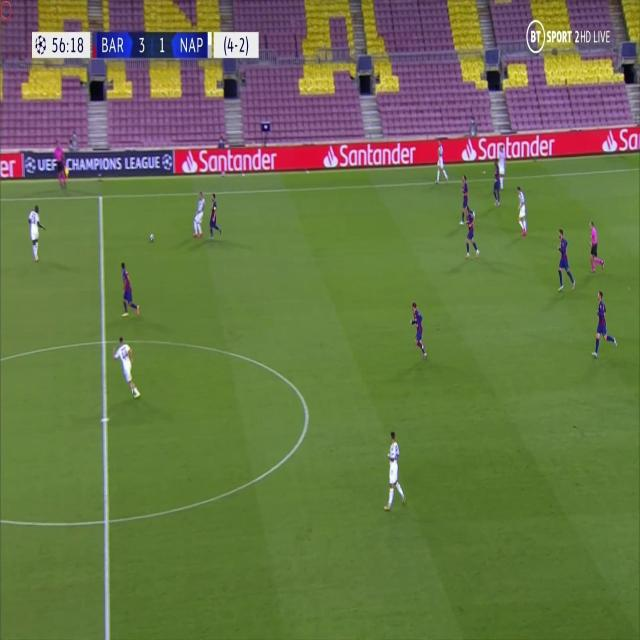ball: (148, 231, 154, 242)
player: (382, 426, 406, 511), (111, 336, 142, 400), (591, 286, 616, 359), (554, 225, 575, 293), (116, 260, 140, 318), (408, 299, 428, 359), (26, 204, 47, 261), (586, 218, 605, 274), (463, 207, 481, 258), (52, 136, 68, 190), (513, 184, 529, 236), (457, 171, 472, 225), (191, 187, 206, 238), (208, 190, 222, 239), (489, 156, 502, 205), (434, 141, 448, 184), (497, 143, 508, 192)
